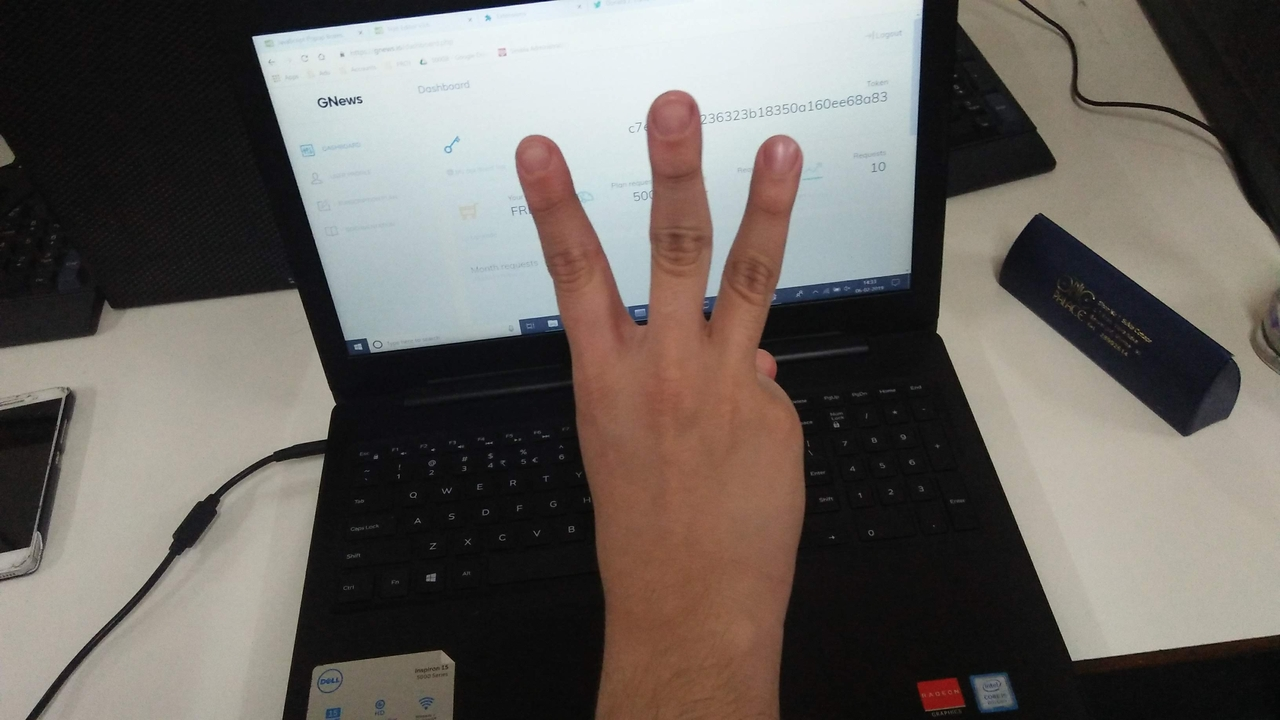fingertip: (506, 130, 572, 188), (644, 90, 706, 148), (748, 132, 806, 188)
